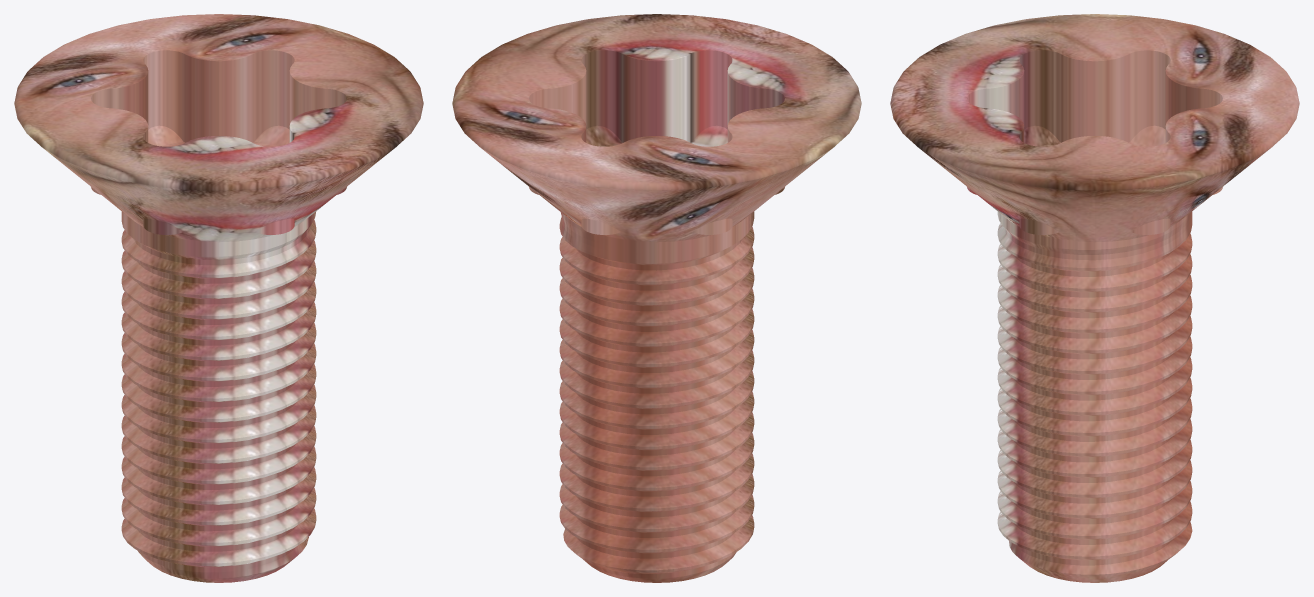
File: kroeger-counter-sink-torx-bolt.glb
3 renders of one model, left to right at view 1: azimuth 30°, elevation 25°; view 2: azimuth 150°, elevation 25°; view 3: azimuth 270°, elevation 25°, orthographic.
Parts seen in each view (by area): view 1: Bolt.027; view 2: Bolt.027; view 3: Bolt.027.
Boxes of the visible parts, x1=… form: Bolt.027: x1=14, y1=14, x2=423, y2=582; Bolt.027: x1=452, y1=14, x2=861, y2=582; Bolt.027: x1=890, y1=14, x2=1299, y2=582.
Bounding box in the file's own units: 0.0126 × 0.0154 × 0.0126.
Materials: 1 (1 with a texture image).
